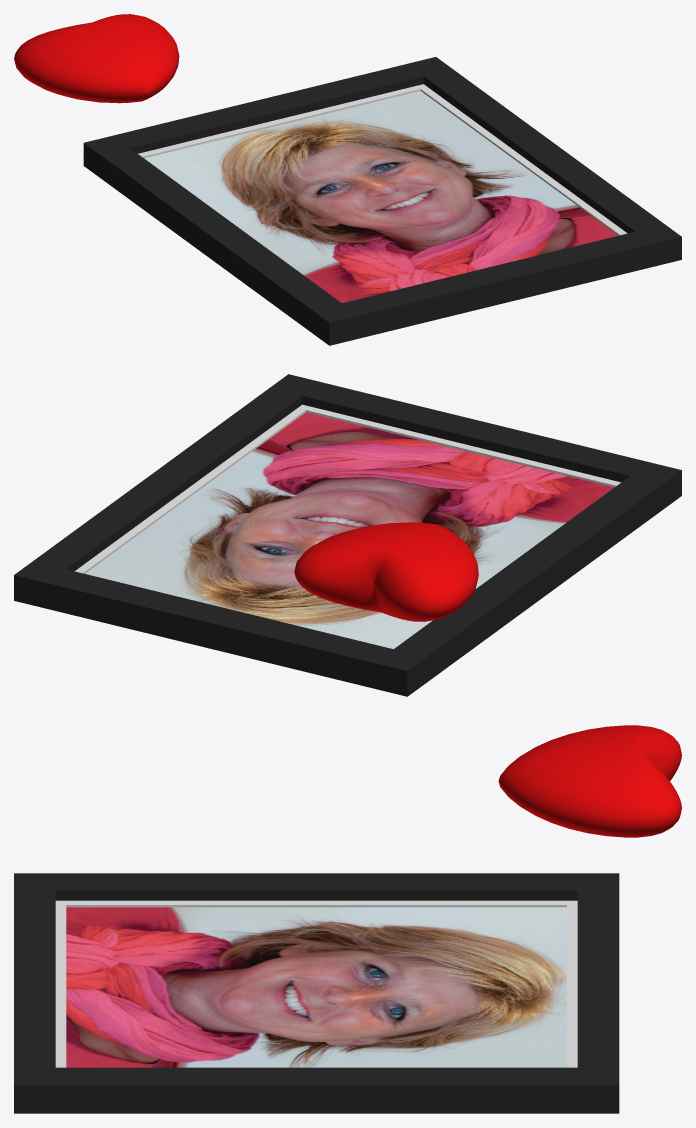
3 views of the same model, one above another, from view 1: azimuth 30°, elevation 25°; view 2: azimuth 150°, elevation 25°; view 3: azimuth 270°, elevation 25° (orthographic). The views are drawn at different scales.
Visible parts, largest first — view 1: PhotoPlane.002, BuitenFrame, Hart, BinnenFrame; view 2: PhotoPlane.002, BuitenFrame, Hart, BinnenFrame; view 3: PhotoPlane.002, BuitenFrame, Hart, BinnenFrame.
Boxes of the visible parts, x1,y1,x2,y2 form: PhotoPlane.002: [144, 91, 617, 302]; BuitenFrame: [83, 57, 681, 345]; Hart: [14, 14, 179, 103]; BinnenFrame: [138, 84, 627, 235]; PhotoPlane.002: [85, 412, 613, 648]; BuitenFrame: [14, 374, 681, 696]; Hart: [294, 522, 478, 621]; BinnenFrame: [75, 404, 620, 573]; PhotoPlane.002: [66, 907, 566, 1067]; BuitenFrame: [14, 873, 619, 1113]; Hart: [498, 725, 681, 837]; BinnenFrame: [55, 900, 577, 1067].
Size of the model in its own units: 0.5563 by 0.1754 by 0.6401.
Materials: 4 (1 with a texture image).
